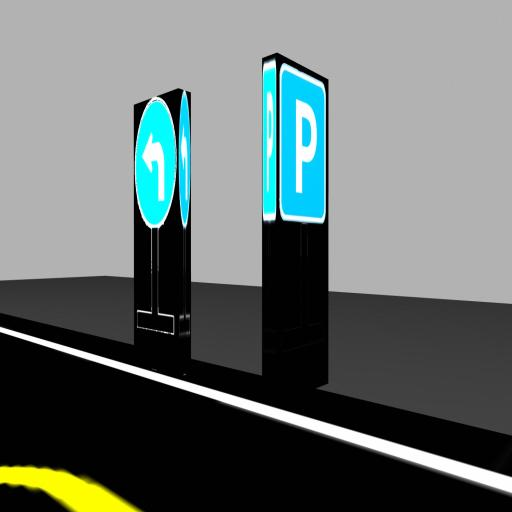Left Turn Sign: (134, 99, 176, 227), (177, 91, 191, 227)
Parking Allowed: (279, 64, 326, 223), (262, 60, 276, 220)
